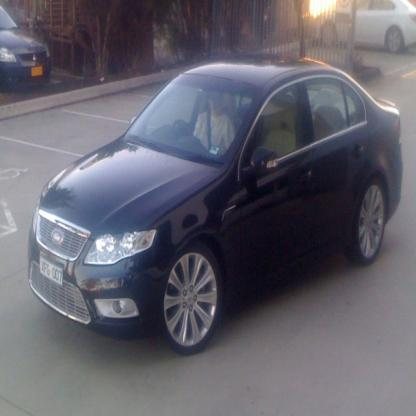Car: (25, 62, 406, 349), (313, 1, 416, 54), (1, 1, 55, 96)
